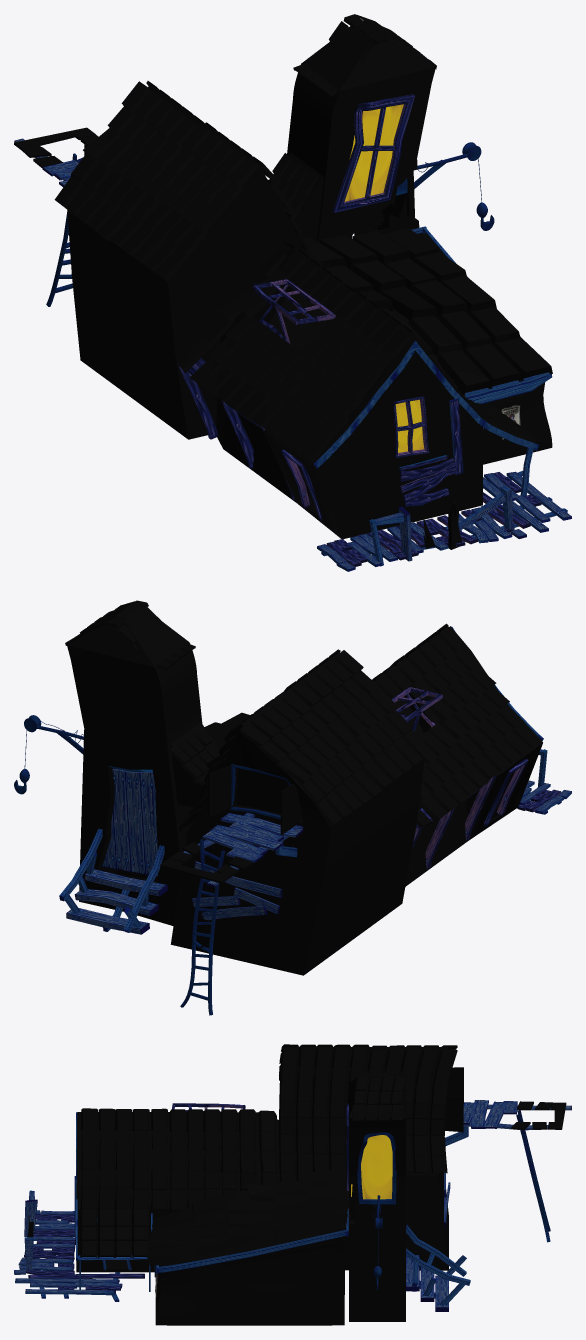
File: harbor_house.glb
The picture shows the model from 3 angles, top to bottom: view 1: azimuth 30°, elevation 25°; view 2: azimuth 150°, elevation 25°; view 3: azimuth 270°, elevation 25°; orthographic projection. The views are drawn at different scales.
Visible parts, largest first — view 1: Line063, Line001, Line095, Box258, Line092, Box307, Line068, Box301, Box300, Box299, Box293, Line083 (+18 smaller); view 2: Line063, Line095, Line001, Line104, Object001_Material #990_0, Line105, Line106, Line107, Line117_Material #991_0, Line054, Line141, Line143 (+11 smaller); view 3: Box258, Line095, Line001, Line063, Box371, Line084, Line097, Box299, Box286, Object001_Material #990_0, Box267, Box283 (+45 smaller).
Part boxes in pixels (x1,y1,x2,y2): Line063: (67, 84, 304, 439); Line001: (216, 250, 483, 538); Line095: (287, 23, 435, 242); Box258: (347, 233, 552, 464); Line092: (333, 94, 414, 212); Box307: (344, 104, 403, 201); Line068: (313, 340, 539, 468); Box301: (437, 350, 491, 395); Box300: (463, 343, 521, 388); Box299: (494, 337, 552, 381); Box293: (408, 315, 463, 357); Line083: (464, 372, 552, 403); Line063: (170, 652, 424, 975); Line095: (67, 607, 219, 925); Line001: (395, 626, 542, 886); Line104: (102, 768, 157, 876); Object001_Material #990_0: (208, 765, 235, 816); Line105: (84, 869, 167, 896); Line106: (74, 889, 158, 915); Line107: (66, 908, 149, 934); Line117_Material #991_0: (280, 784, 301, 834); Line054: (483, 758, 528, 826); Line141: (209, 824, 283, 850); Line143: (220, 812, 303, 837); Box258: (155, 1227, 345, 1325); Line095: (349, 1074, 405, 1321); Line001: (76, 1112, 279, 1272); Line063: (286, 1047, 448, 1270); Box371: (361, 1135, 392, 1199); Line084: (159, 1229, 347, 1272); Line097: (357, 1132, 396, 1204); Box299: (147, 1245, 196, 1265); Box286: (229, 1226, 272, 1246); Object001_Material #990_0: (445, 1095, 463, 1132); Box267: (306, 1213, 347, 1234); Box283: (227, 1198, 274, 1213).
Bounding box in the file's own units: 10.25 × 7.86 × 16.65.
Materials: 7 (7 with a texture image).
